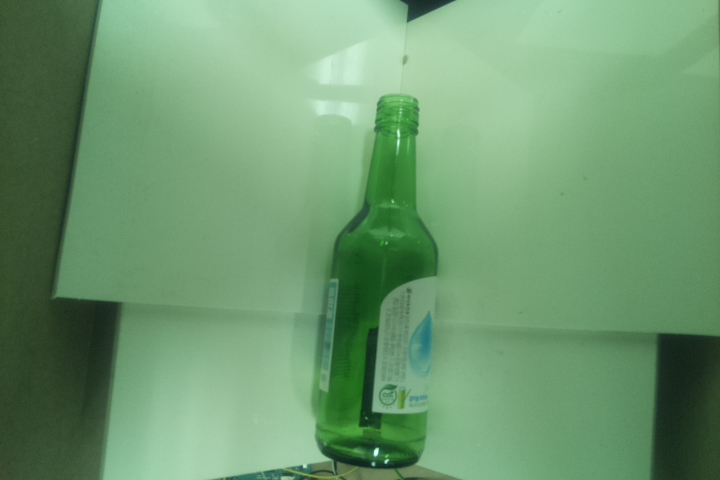soju: (310, 95, 439, 469)
